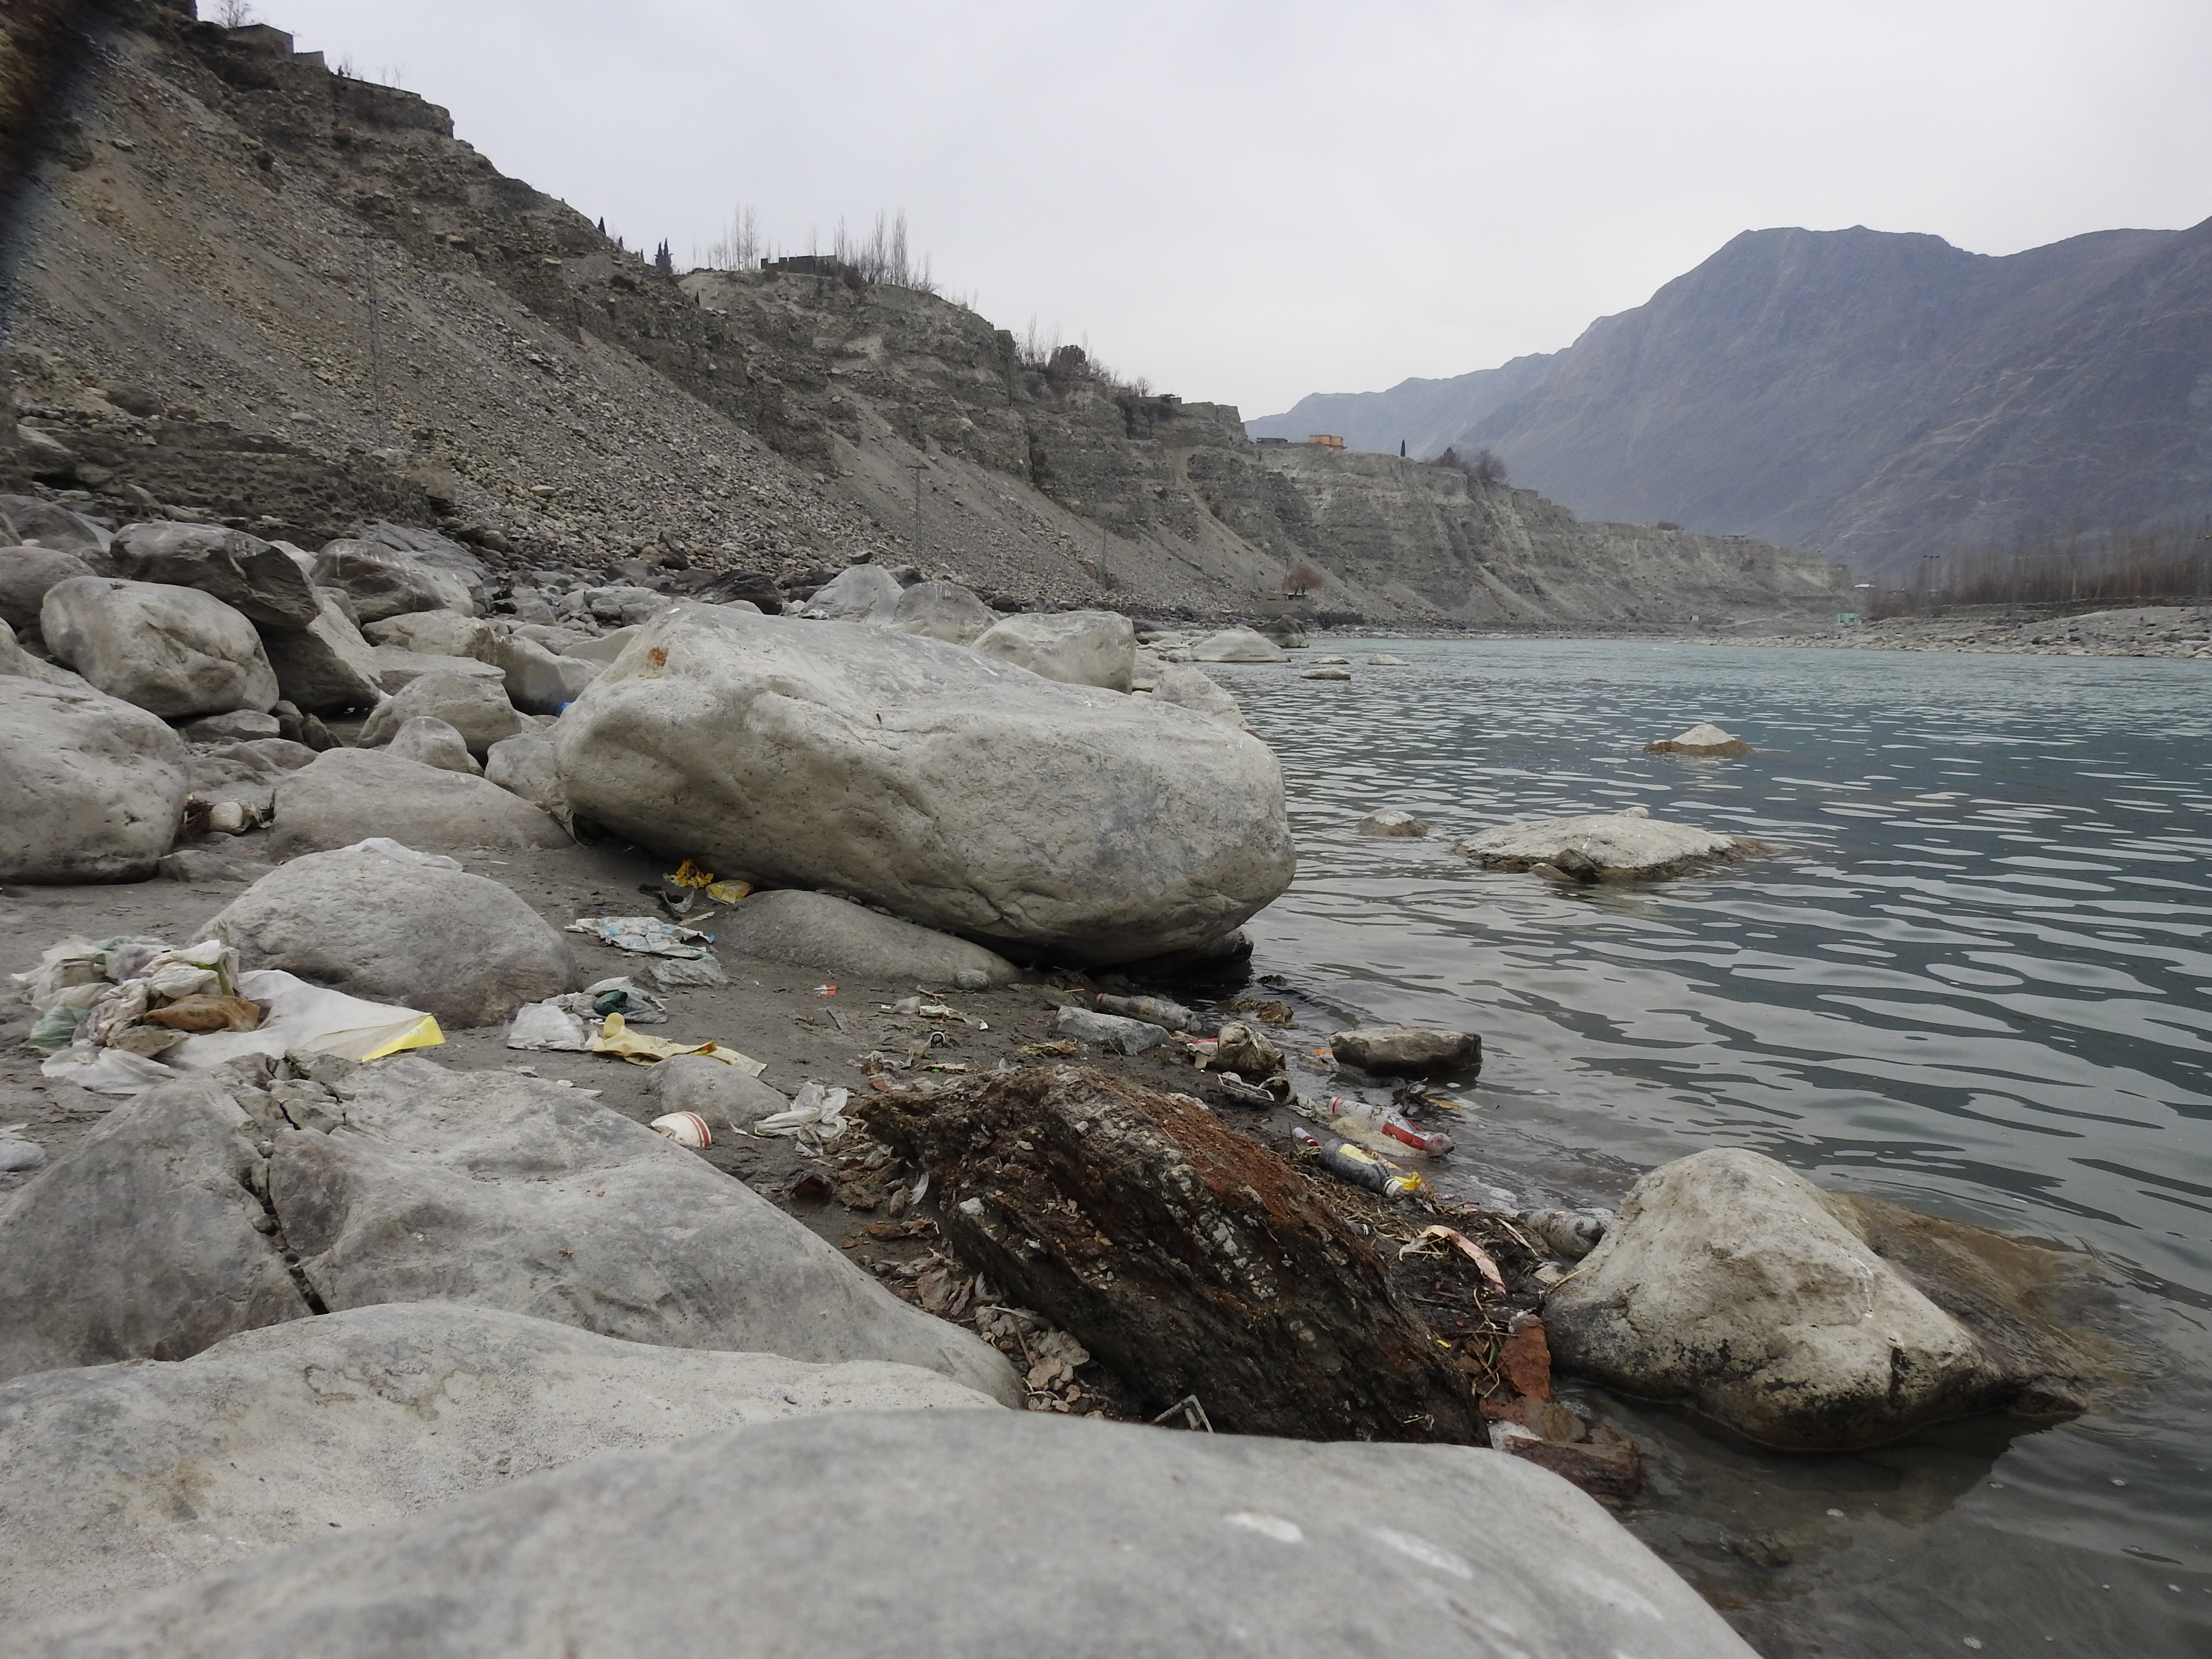Plastic Bottle: (1329, 1096, 1454, 1162), (1318, 1138, 1404, 1197), (1096, 992, 1197, 1033), (1292, 1127, 1318, 1147)
